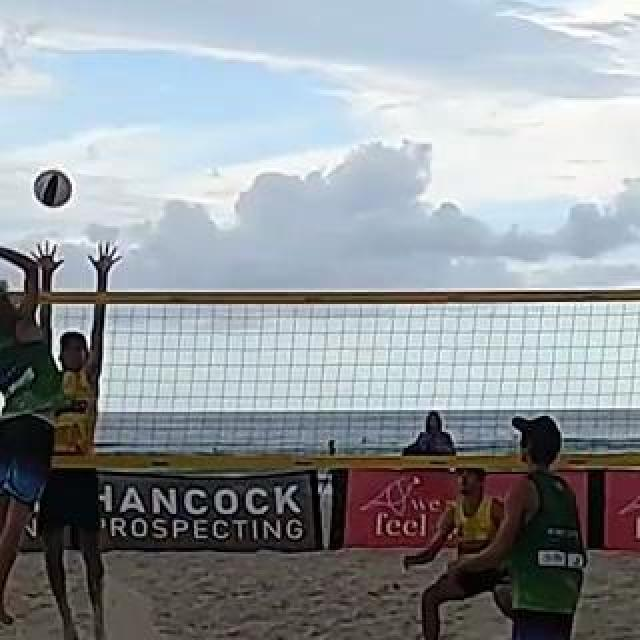volleyball: (34, 167, 72, 207)
